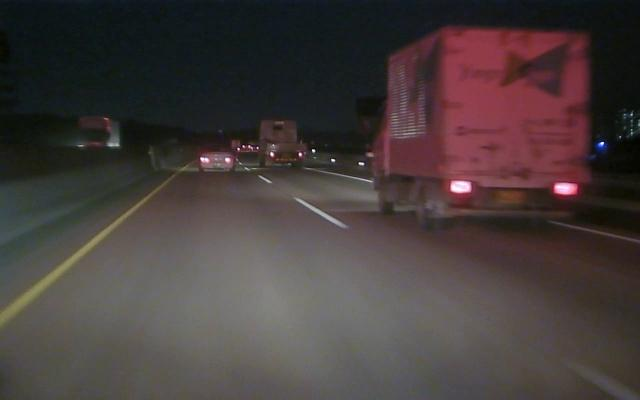lane: (312, 170, 640, 245), (0, 182, 169, 327), (258, 175, 352, 230)
